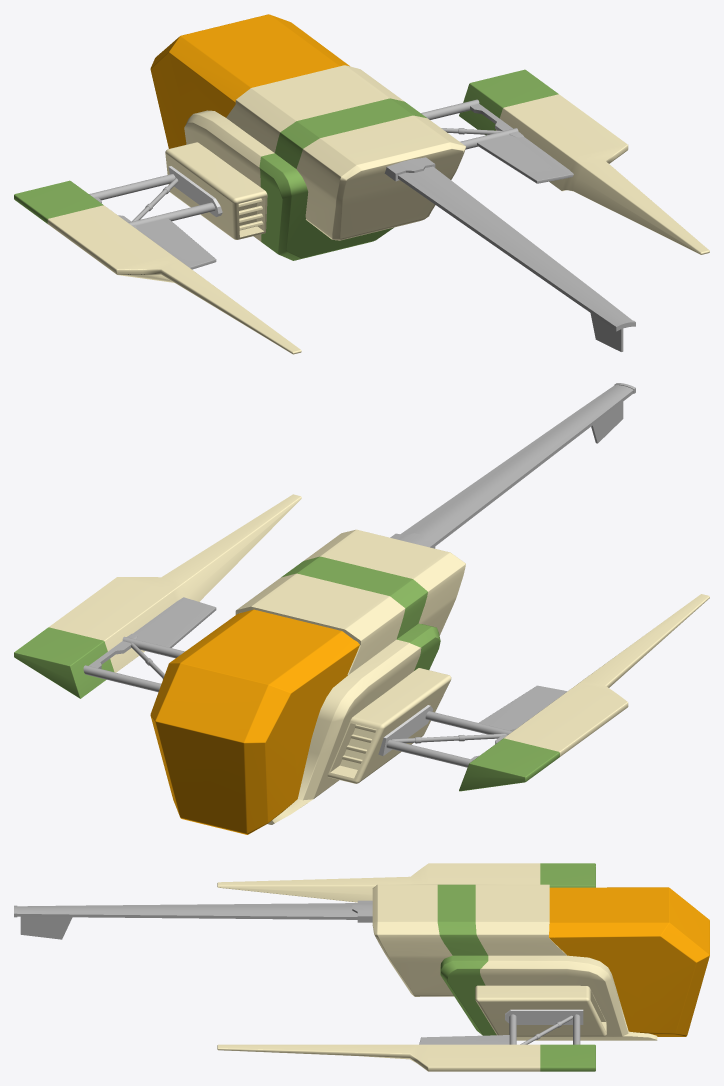
Rendered from dragonfly.fbx.
3 renders of one model, top to bottom at view 1: azimuth 30°, elevation 25°; view 2: azimuth 150°, elevation 25°; view 3: azimuth 270°, elevation 25°, orthographic. The views are drawn at different scales.
Visible parts, largest first — view 1: hull_body, Canopy Outside, r_wing, l_wing, tail, L_Engine, Canopy Inside, r_arm_with_fin, l_arm_with_fin, Connecter, l_wing_front_pipe, l_wing_back_pipe; view 2: Canopy Outside, hull_body, r_wing, l_wing, tail, Canopy Inside, L_Engine, r_arm_with_fin, l_arm_with_fin, l_wing_front_pipe, Connecter, l_wing_back_pipe (+1 smaller); view 3: hull_body, Canopy Outside, r_wing, l_wing, tail, R_Engine, Canopy Inside, Connecter, r_arm_with_fin.
Boxes of the visible parts, bbox=[...] form: hull_body: bbox=[184, 65, 465, 260]; Canopy Outside: bbox=[150, 14, 349, 148]; r_wing: bbox=[459, 69, 709, 254]; l_wing: bbox=[14, 180, 301, 354]; tail: bbox=[384, 157, 635, 351]; L_Engine: bbox=[165, 142, 267, 239]; Canopy Inside: bbox=[151, 14, 345, 148]; r_arm_with_fin: bbox=[470, 104, 573, 183]; l_arm_with_fin: bbox=[94, 197, 216, 269]; Connecter: bbox=[168, 166, 222, 216]; l_wing_front_pipe: bbox=[89, 174, 175, 200]; l_wing_back_pipe: bbox=[128, 202, 215, 225]; Canopy Outside: bbox=[150, 609, 359, 834]; hull_body: bbox=[235, 529, 465, 824]; r_wing: bbox=[14, 494, 301, 698]; l_wing: bbox=[459, 594, 709, 791]; tail: bbox=[390, 383, 635, 548]; Canopy Inside: bbox=[151, 610, 356, 834]; L_Engine: bbox=[327, 668, 451, 783]; r_arm_with_fin: bbox=[89, 597, 216, 668]; l_arm_with_fin: bbox=[471, 685, 567, 759]; l_wing_front_pipe: bbox=[386, 739, 473, 767]; Connecter: bbox=[378, 705, 432, 755]; l_wing_back_pipe: bbox=[425, 711, 512, 734]; hull_body: bbox=[372, 884, 657, 1040]; Canopy Outside: bbox=[549, 887, 709, 1036]; r_wing: bbox=[217, 1044, 595, 1071]; l_wing: bbox=[217, 863, 595, 902]; tail: bbox=[14, 900, 372, 939]; R_Engine: bbox=[475, 985, 606, 1036]; Canopy Inside: bbox=[549, 887, 709, 1036]; Connecter: bbox=[505, 1009, 583, 1024]; r_arm_with_fin: bbox=[419, 1035, 509, 1044].
Bounding box in the file's own units: 698 × 194 × 1007.
